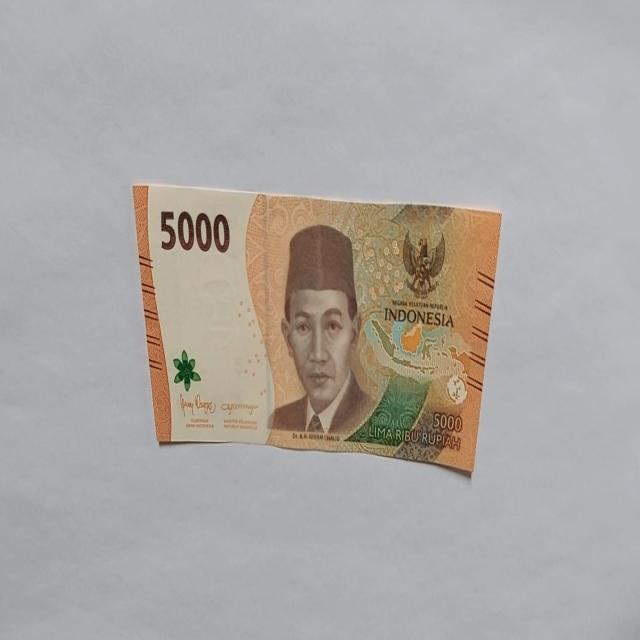lima ribu rupiah: (132, 180, 502, 477), (266, 222, 374, 439)
